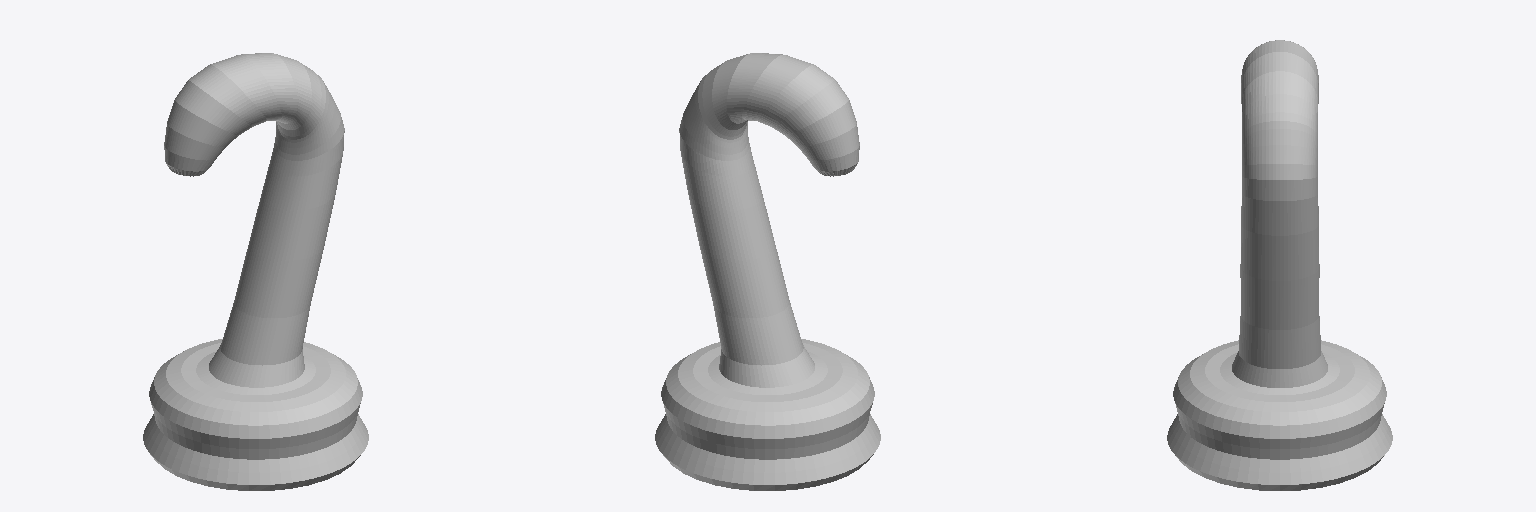
Rendered from CandyCanePiece.obj.
3 renders of one model, left to right at view 1: azimuth 30°, elevation 25°; view 2: azimuth 150°, elevation 25°; view 3: azimuth 270°, elevation 25°, orthographic.
Visible parts, largest first — view 1: Cylinder; view 2: Cylinder; view 3: Cylinder.
Boxes of the visible parts, box(x1,y1,x2,y2) form: Cylinder: box(143, 53, 368, 490); Cylinder: box(655, 53, 880, 490); Cylinder: box(1167, 40, 1392, 490).
Size of the model in its own units: 0.6657 by 1.3 by 0.6657.